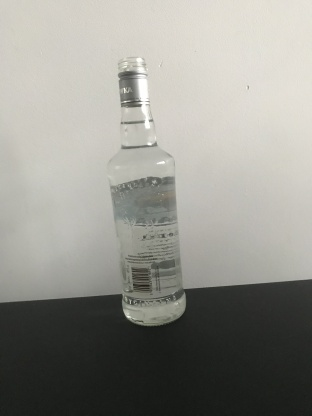nakretka: (115, 54, 152, 109)
